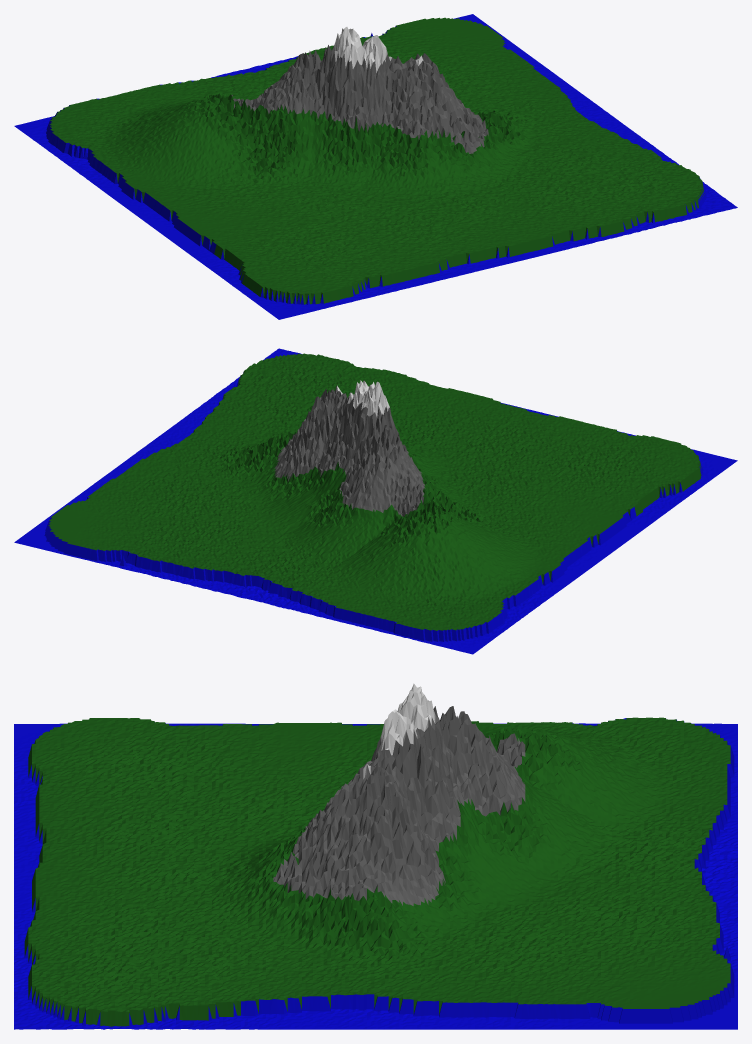
File: mountain.fbx
3 renders of one model, top to bottom at view 1: azimuth 30°, elevation 25°; view 2: azimuth 150°, elevation 25°; view 3: azimuth 270°, elevation 25°, orthographic. The views are drawn at different scales.
Visible parts, largest first — view 1: Plane; view 2: Plane; view 3: Plane.
Part boxes in pixels (<box>): Plane: <box>14,14,737,319</box>; Plane: <box>14,348,737,654</box>; Plane: <box>14,683,737,1029</box>.
Bounding box in the file's own units: 500 × 139 × 500.
